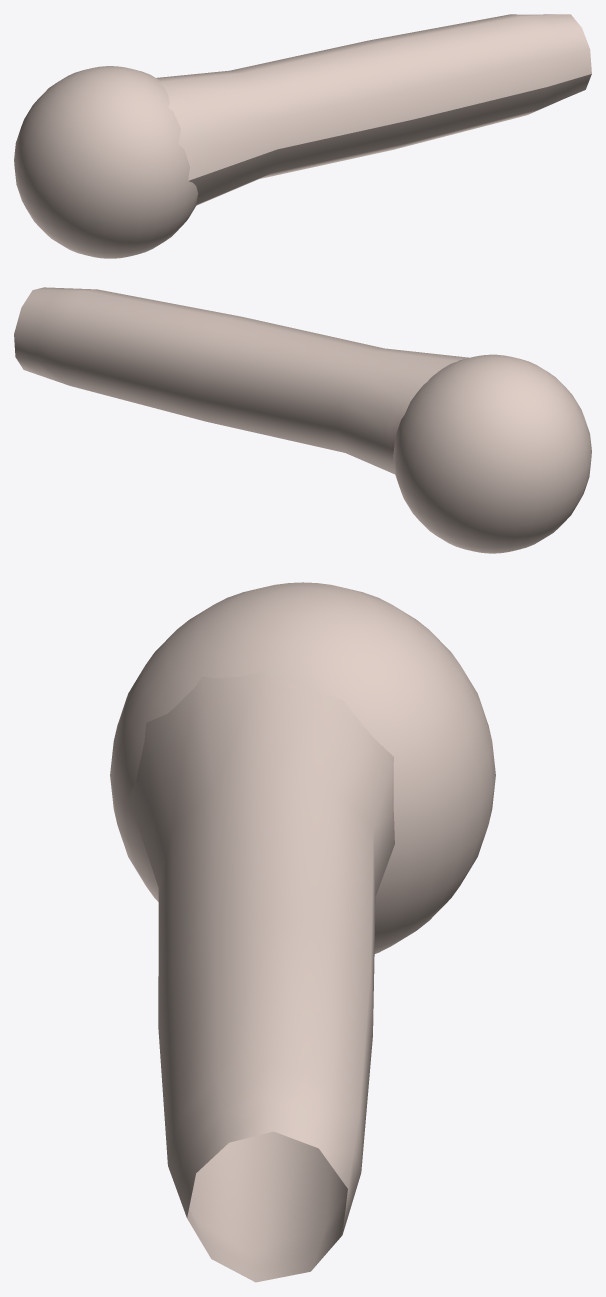
The model's file is brazo_D.obj.
3 renders of one model, top to bottom at view 1: azimuth 30°, elevation 25°; view 2: azimuth 150°, elevation 25°; view 3: azimuth 270°, elevation 25°, orthographic. The views are drawn at different scales.
Visible parts, largest first — view 1: brazo_D; view 2: brazo_D; view 3: brazo_D.
Boxes of the visible parts, left/top/right/bottom form: brazo_D: left=14, top=14, right=591, bottom=258; brazo_D: left=14, top=287, right=591, bottom=553; brazo_D: left=110, top=582, right=495, bottom=1282.
Size of the model in its own units: 31.06 by 9.67 by 9.67.
Materials: 2 (2 with a texture image).
